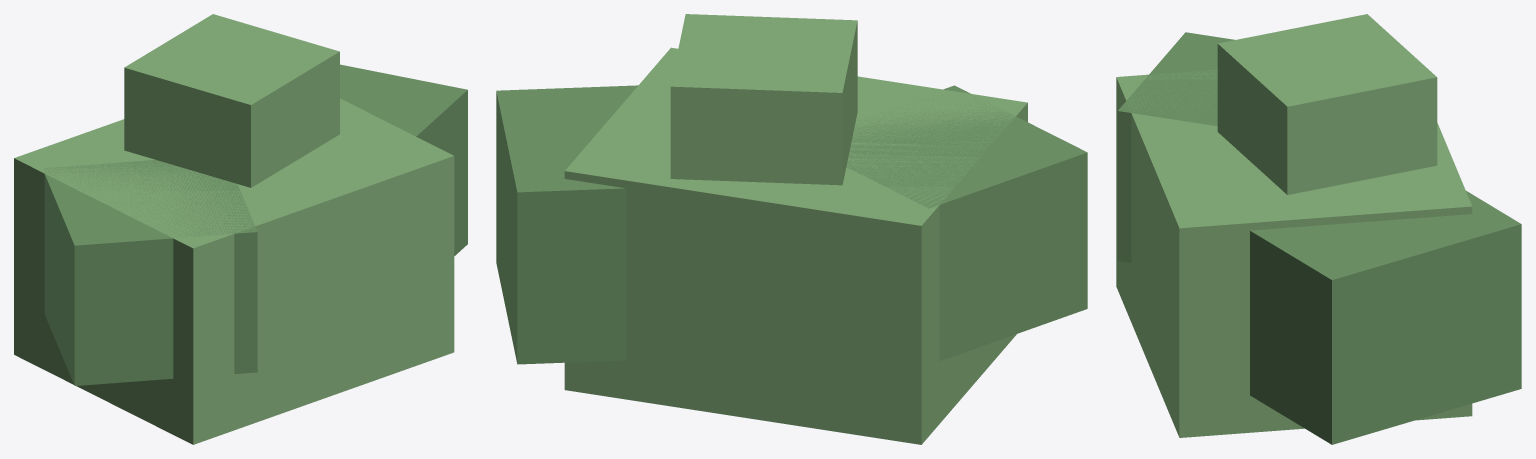
The model's file is bush.glb.
3 renders of one model, left to right at view 1: azimuth 30°, elevation 25°; view 2: azimuth 150°, elevation 25°; view 3: azimuth 270°, elevation 25°, orthographic. The views are drawn at different scales.
Visible parts, largest first — view 1: Bush; view 2: Bush; view 3: Bush.
Boxes of the visible parts, x1=… form: Bush: x1=14, y1=14, x2=467, y2=444; Bush: x1=496, y1=14, x2=1087, y2=444; Bush: x1=1116, y1=14, x2=1521, y2=444.
Size of the model in its own units: 1.72 by 0.995 by 1.23.
